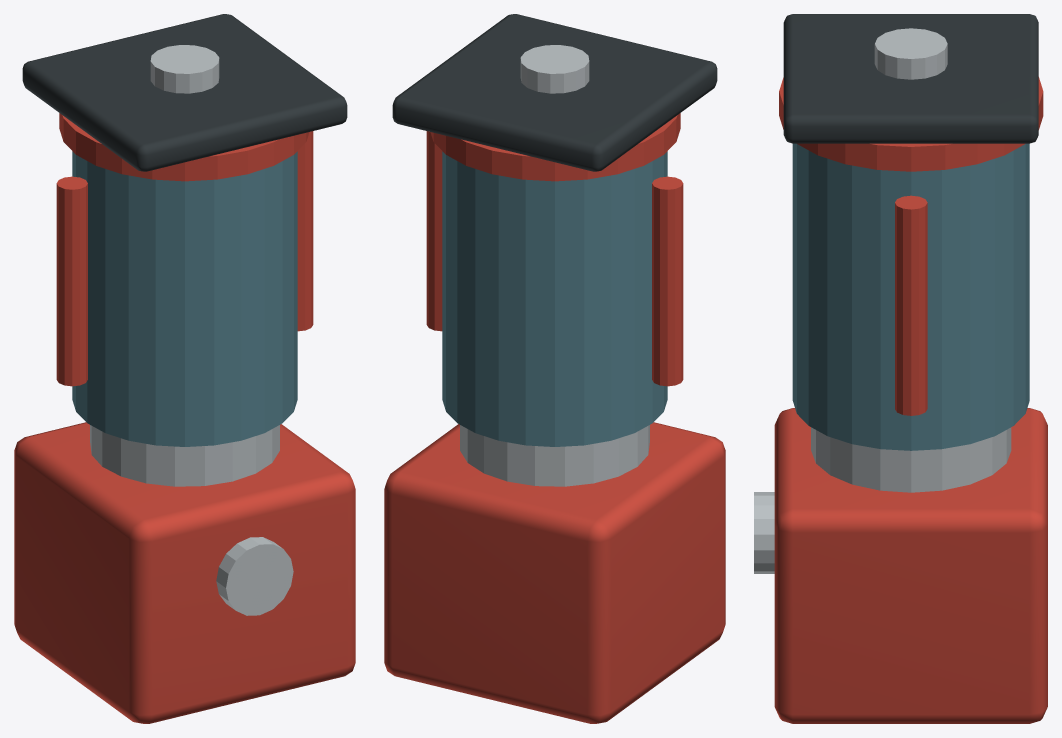
Rendered from blender_red.glb.
The picture shows the model from 3 angles, left to right: view 1: azimuth 30°, elevation 25°; view 2: azimuth 150°, elevation 25°; view 3: azimuth 270°, elevation 25°; orthographic projection. The views are drawn at different scales.
Visible parts, largest first — view 1: motor base, jug, lid, jug foot, jug handle, jug rim, speed dial, jug handle.001, lid cap; view 2: motor base, jug, lid, jug foot, jug handle, jug rim, jug handle.001, lid cap; view 3: motor base, jug, lid, jug foot, jug handle.001, jug rim, lid cap, speed dial.
Part boxes in pixels (x1=…): motor base: x1=14, y1=422, x2=355, y2=723; jug: x1=72, y1=151, x2=297, y2=446; lid: x1=22, y1=14, x2=347, y2=171; jug foot: x1=90, y1=425, x2=279, y2=486; jug handle: x1=56, y1=176, x2=87, y2=386; jug rim: x1=59, y1=113, x2=309, y2=181; speed dial: x1=216, y1=537, x2=293, y2=615; jug handle.001: x1=297, y1=131, x2=313, y2=331; lid cap: x1=150, y1=45, x2=219, y2=93; motor base: x1=384, y1=422, x2=725, y2=723; jug: x1=442, y1=151, x2=667, y2=446; lid: x1=392, y1=14, x2=717, y2=171; jug foot: x1=460, y1=425, x2=649, y2=486; jug handle: x1=652, y1=176, x2=683, y2=386; jug rim: x1=430, y1=113, x2=680, y2=181; jug handle.001: x1=426, y1=131, x2=442, y2=331; lid cap: x1=520, y1=45, x2=589, y2=93; motor base: x1=774, y1=408, x2=1047, y2=723; jug: x1=792, y1=143, x2=1029, y2=450; lid: x1=783, y1=14, x2=1038, y2=143; jug foot: x1=811, y1=427, x2=1011, y2=492; jug handle.001: x1=895, y1=195, x2=927, y2=415; jug rim: x1=779, y1=77, x2=1043, y2=171; lid cap: x1=874, y1=28, x2=947, y2=79; speed dial: x1=754, y1=492, x2=774, y2=573.
Size of the model in its own units: 0.336 by 0.7625 by 0.3225.
